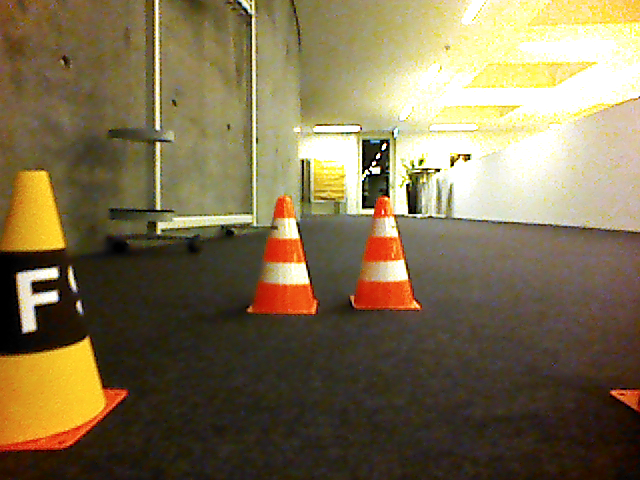orangeconesmall: (246, 195, 318, 317), (347, 196, 422, 312)
yellowcone: (1, 168, 129, 451)
